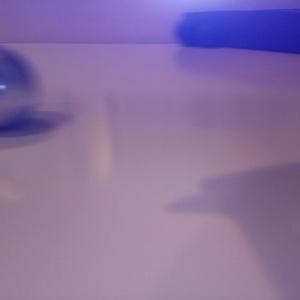alive_ball: (1, 46, 35, 131)
dead_ball: (175, 16, 205, 47), (194, 22, 220, 47)
